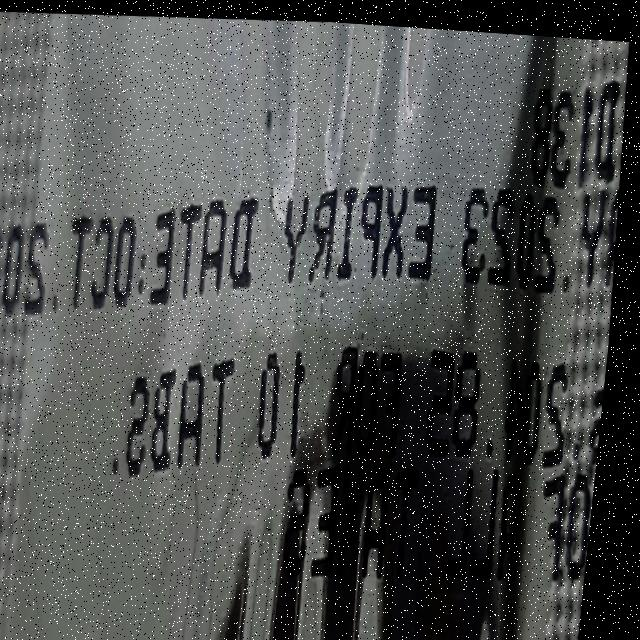sentence: (0, 172, 622, 314), (122, 340, 612, 475), (294, 449, 601, 585), (533, 71, 627, 179)
